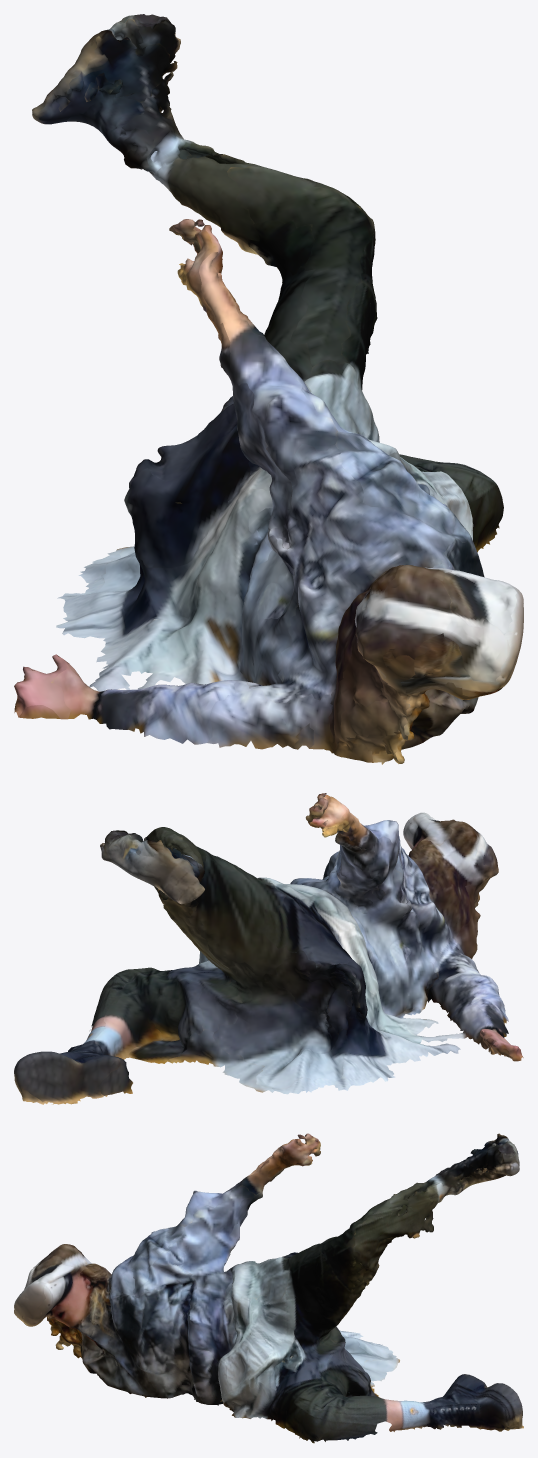
Rendered from MChapel04.fbx.
3 renders of one model, top to bottom at view 1: azimuth 30°, elevation 25°; view 2: azimuth 150°, elevation 25°; view 3: azimuth 270°, elevation 25°, orthographic. The views are drawn at different scales.
Parts seen in each view (by area): view 1: textured; view 2: textured; view 3: textured.
Part boxes in pixels (bbox=[...]): textured: bbox=[14, 14, 523, 764]; textured: bbox=[14, 793, 523, 1104]; textured: bbox=[14, 1133, 523, 1443].
Bounding box in the file's own units: 102 × 75.81 × 141.
Materials: 1 (1 with a texture image).
